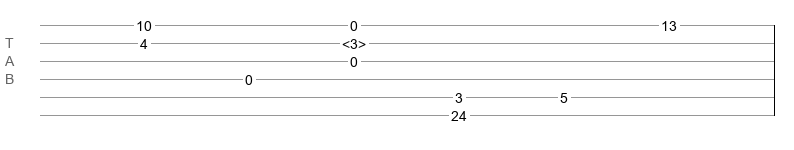0: (245, 72, 253, 82), (350, 54, 358, 64), (350, 18, 358, 28)
10: (136, 18, 152, 28)
13: (661, 18, 677, 28)
24: (451, 108, 467, 118)
3: (455, 90, 463, 100)
4: (140, 36, 148, 46)
5: (560, 90, 568, 100)
harmonic: (342, 36, 366, 46)
